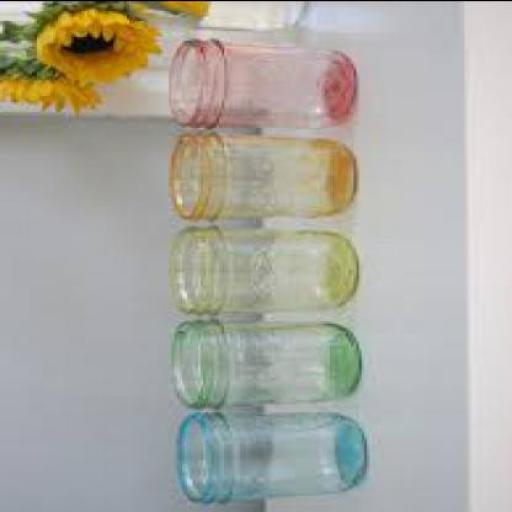biodegradable: (29, 6, 158, 81), (0, 50, 101, 116), (0, 0, 111, 38), (113, 2, 203, 18)
glass: (172, 410, 361, 500), (167, 223, 356, 312), (169, 316, 354, 405), (166, 38, 353, 124), (168, 131, 350, 219)
